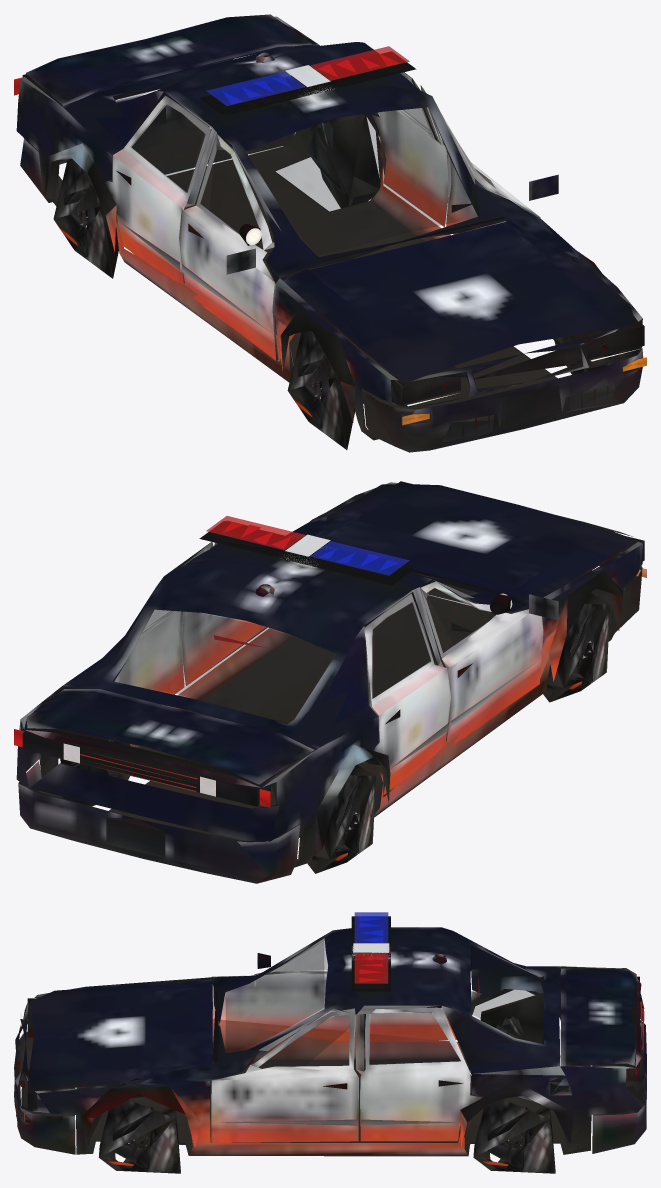
The model's file is tsubame_lod2.glb.
3 renders of one model, top to bottom at view 1: azimuth 30°, elevation 25°; view 2: azimuth 150°, elevation 25°; view 3: azimuth 270°, elevation 25°, orthographic. The views are drawn at different scales.
Parts seen in each view (by area): view 1: Body, Wheel_RL, Wheel_FR, Wheel_RR; view 2: Body, Wheel_FR, Wheel_RR; view 3: Body, Wheel_RL, Wheel_FL, Wheel_RR.
Part boxes in pixels (x1,y1,x2,y2): Body: [14, 14, 646, 452]; Wheel_RL: [306, 114, 380, 208]; Wheel_FR: [287, 331, 363, 449]; Wheel_RR: [53, 158, 118, 278]; Body: [14, 481, 646, 883]; Wheel_FR: [543, 593, 609, 702]; Wheel_RR: [307, 764, 375, 873]; Body: [14, 912, 646, 1156]; Wheel_RL: [473, 1097, 555, 1173]; Wheel_FL: [98, 1097, 180, 1173]; Wheel_RR: [480, 992, 543, 1043].
Size of what is drawn, in the model's own units: 2.17 by 1.4 by 4.48.
2 materials, 2 textured.
